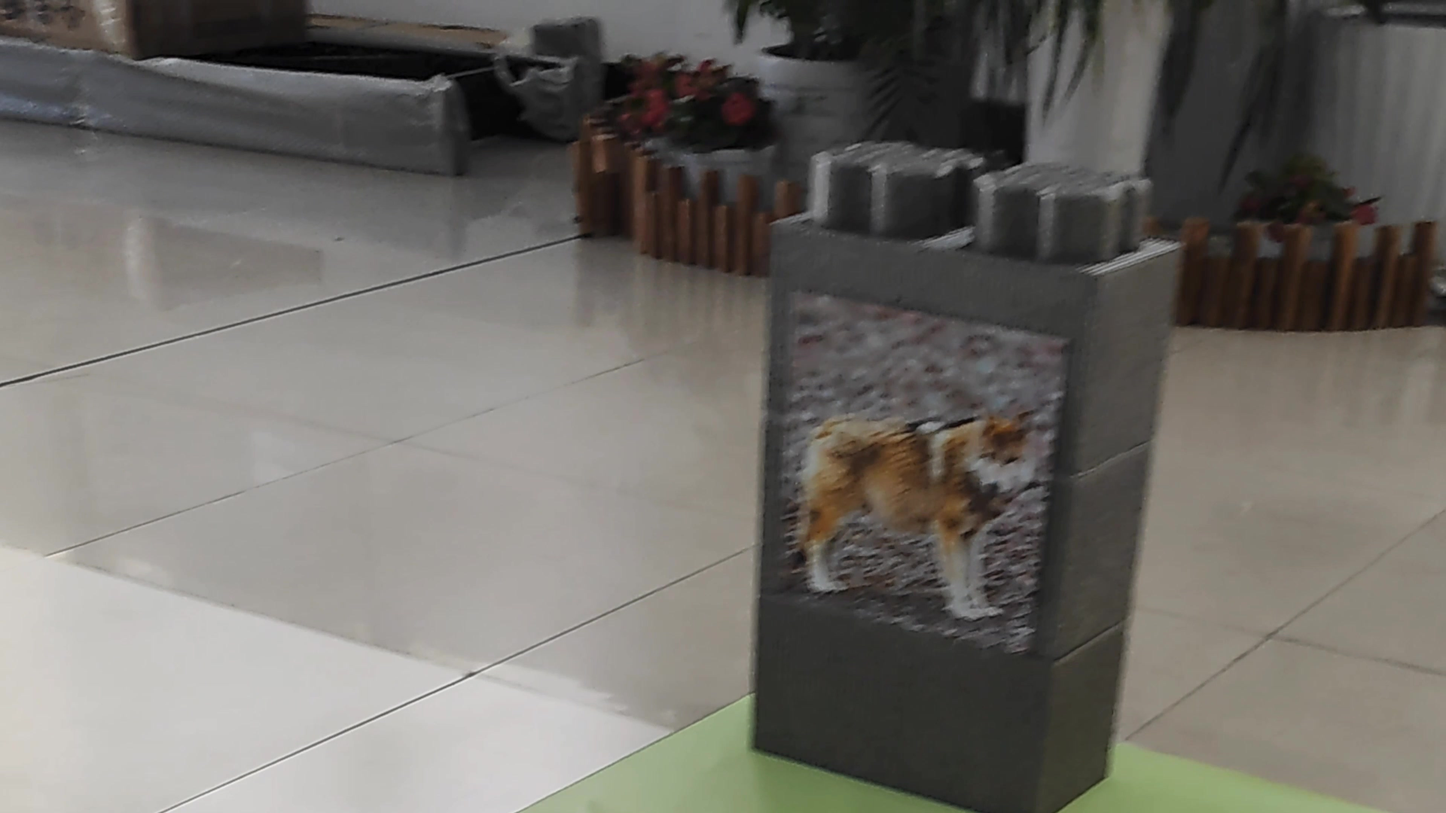wolf: (781, 332, 1034, 636)
